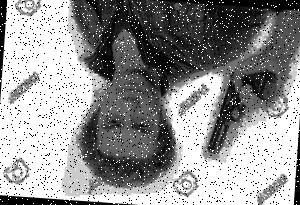handgun: (205, 54, 291, 158)
